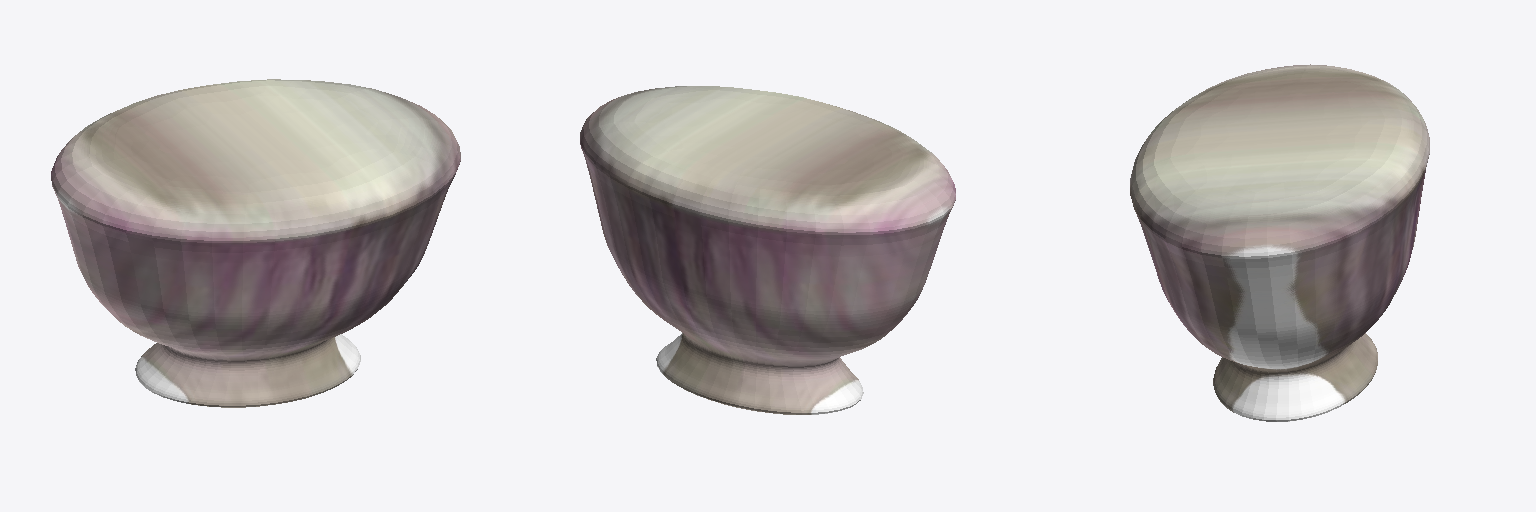
3 views of the same model, side by side, from view 1: azimuth 30°, elevation 25°; view 2: azimuth 150°, elevation 25°; view 3: azimuth 270°, elevation 25° (orthographic).
Parts seen in each view (by area): view 1: 000_Cylinder_-_baked; view 2: 000_Cylinder_-_baked; view 3: 000_Cylinder_-_baked.
Part boxes in pixels (x1,y1,x2,y2): 000_Cylinder_-_baked: (51, 79, 460, 407); 000_Cylinder_-_baked: (580, 86, 955, 414); 000_Cylinder_-_baked: (1130, 64, 1429, 421).
Bounding box in the file's own units: 240 × 158 × 171.
1 materials, 1 textured.